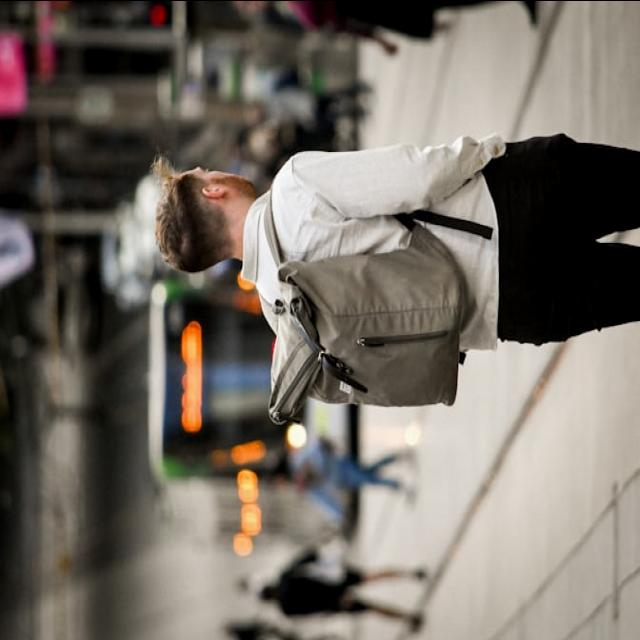backpack: (258, 186, 470, 426)
